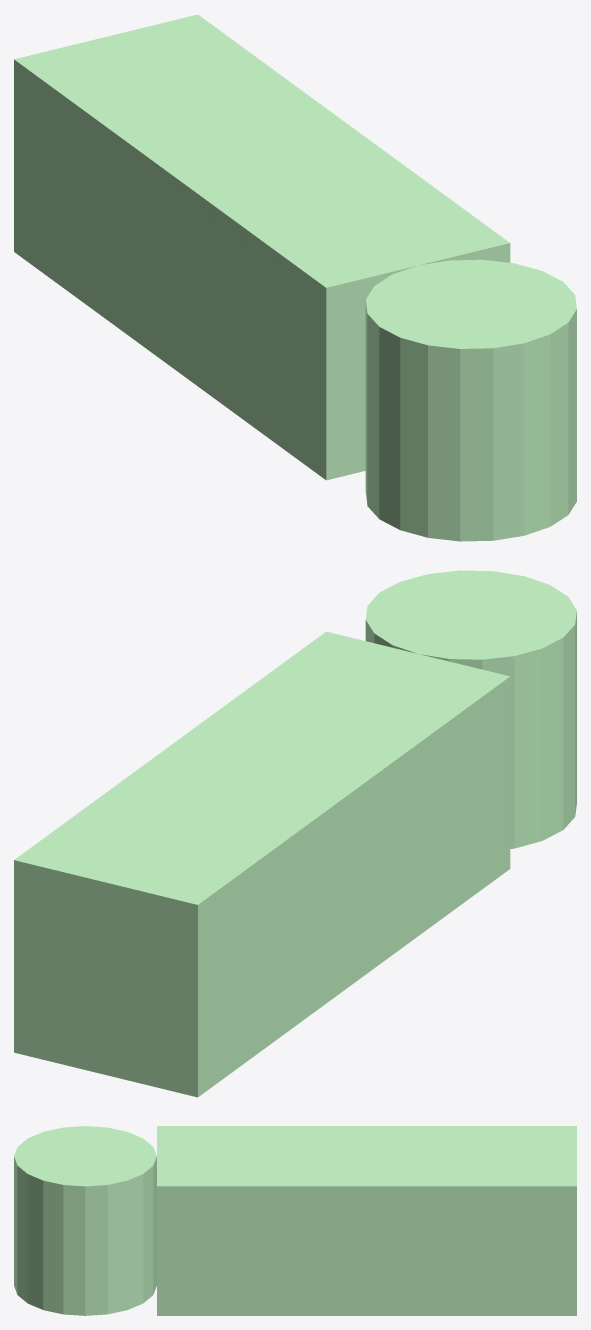
The model's file is LARM_LINK4_mesh.dae.
3 renders of one model, top to bottom at view 1: azimuth 30°, elevation 25°; view 2: azimuth 150°, elevation 25°; view 3: azimuth 270°, elevation 25°, orthographic. The views are drawn at different scales.
Visible parts, largest first — view 1: LARM_LINK4 (×2); view 2: LARM_LINK4 (×2); view 3: LARM_LINK4 (×2).
Boxes of the visible parts, x1,y1,x2,y2 form: LARM_LINK4 (×2): (14,14,576,541); LARM_LINK4 (×2): (14,570,576,1097); LARM_LINK4 (×2): (14,1126,576,1315).
Size of the model in its own units: 0.05 by 0.05 by 0.197.
